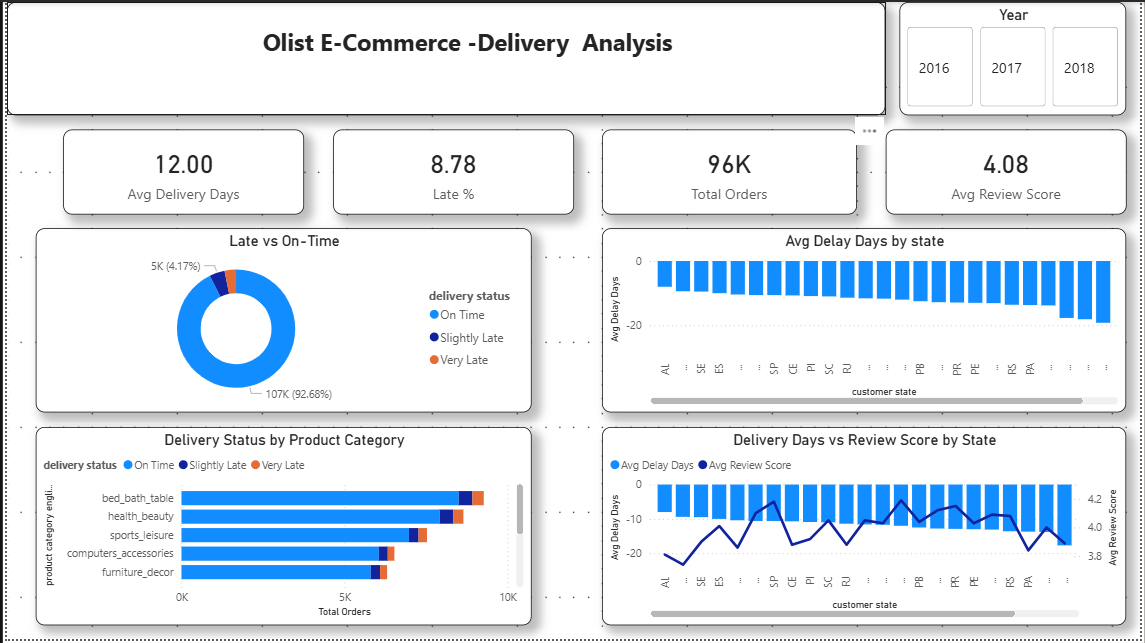

Layout of this report page (visuals, bound fields, positions):
{"tool":"powerbi","page":{"name":"Delivery Analysis","canvas":[1280,720],"ordinal":2},"visuals":[{"type":"donutChart","title":"Late vs On-Time","fields":{"Category":["FactOrders.delivery_status"],"Y":["KPI.order count"]},"box":[32,256,560,208],"z":0},{"type":"clusteredColumnChart","title":"Total Late Orders by State","fields":{"Category":["DimCustomer.customer_state"],"Y":["KPI.Late Orders"]},"box":[672,256,592,208],"z":1000},{"type":"barChart","title":"Delivery Status by Product Category","fields":{"Category":["DimProduct.product_category_english"],"Series":["FactOrders.delivery_status"],"Y":["KPI.Total Orders"]},"box":[32,480,560,224],"z":2000},{"type":"lineStackedColumnComboChart","title":"Top 10 States by Avg Days Late vs Review Score","fields":{"Category":["DimCustomer.customer_state"],"Y":["KPI.Avg Days Late"],"Y2":["KPI.Avg Review Score"]},"box":[672,480,592,224],"z":3000},{"type":"card","fields":{"Values":["KPI.Avg Delivery Days"]},"box":[64,144,272,96],"z":4000},{"type":"card","fields":{"Values":["KPI.Late %"]},"box":[368,144,272,96],"z":5000},{"type":"card","fields":{"Values":["KPI.Total Orders"]},"box":[672,144,288,96],"z":6000},{"type":"card","fields":{"Values":["KPI.Avg Review Score"]},"box":[992,144,272,96],"z":7000},{"type":"textbox","box":[0,0,992,128],"z":8000},{"type":"advancedSlicerVisual","fields":{"Values":["DimDate.Year"]},"box":[1008,0,256,128],"z":9000}]}

Visuals, with their boxes in screenshot pixels (x1, y1, x2, y2), scaled from the page's 1280x720 canvas onto the 1145x643 screenshot:
"Late vs On-Time" donutChart: x1=29 y1=229 x2=530 y2=414
"Total Late Orders by State" clusteredColumnChart: x1=601 y1=229 x2=1131 y2=414
"Delivery Status by Product Category" barChart: x1=29 y1=429 x2=530 y2=629
"Top 10 States by Avg Days Late vs Review Score" lineStackedColumnComboChart: x1=601 y1=429 x2=1131 y2=629
card - KPI.Avg Delivery Days: x1=57 y1=129 x2=301 y2=214
card - KPI.Late %: x1=329 y1=129 x2=572 y2=214
card - KPI.Total Orders: x1=601 y1=129 x2=859 y2=214
card - KPI.Avg Review Score: x1=887 y1=129 x2=1131 y2=214
textbox: x1=0 y1=0 x2=887 y2=114
advancedSlicerVisual - DimDate.Year: x1=902 y1=0 x2=1131 y2=114
